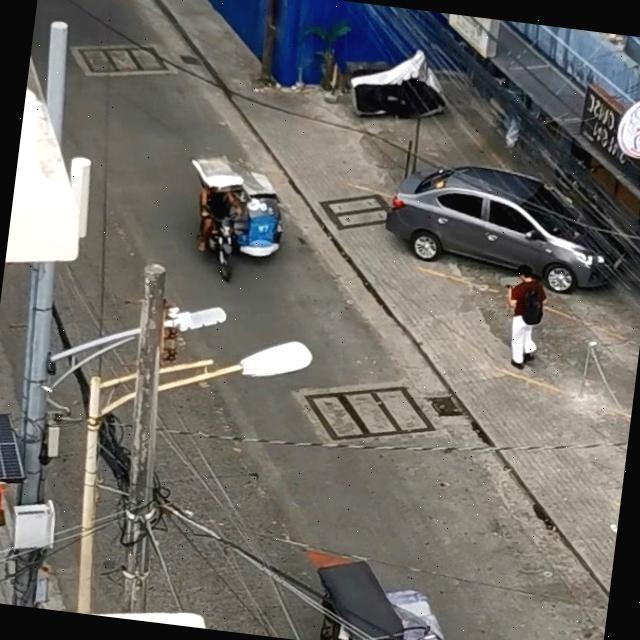Tricycle: (182, 152, 296, 286), (305, 551, 463, 640)
